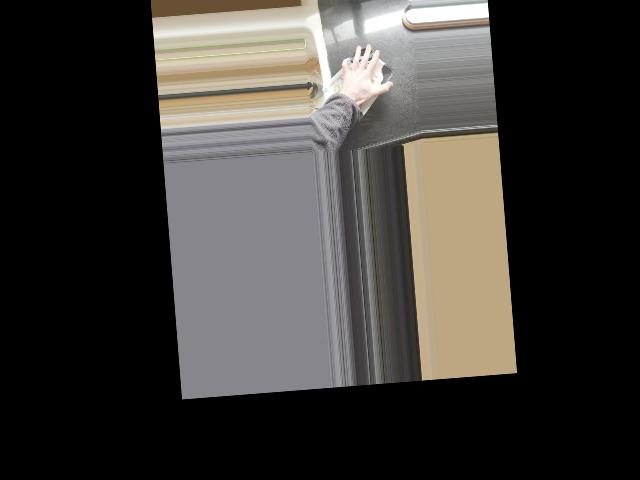cheese: (316, 43, 397, 123)
